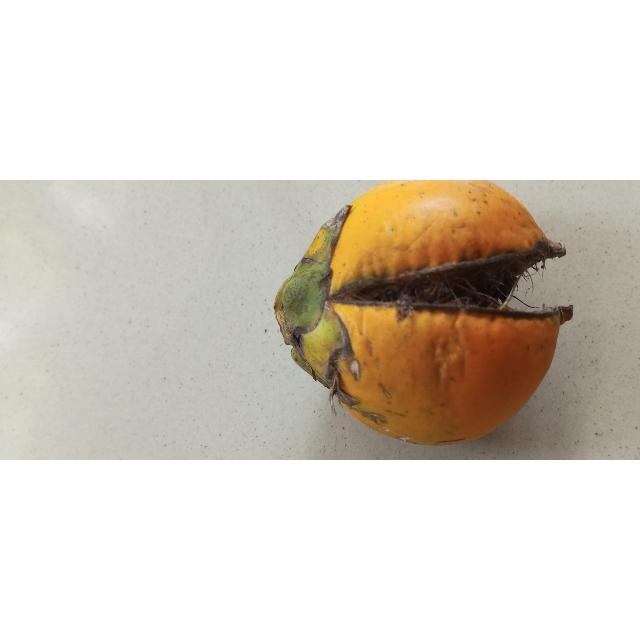damaged: (274, 180, 573, 446)
